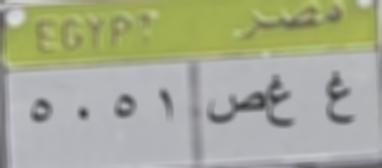0: (72, 102, 92, 128)
1: (158, 86, 178, 125)
5: (24, 92, 55, 128), (109, 87, 138, 124)
ghayn: (317, 68, 356, 129), (264, 73, 296, 134)
saad: (204, 84, 266, 127)
